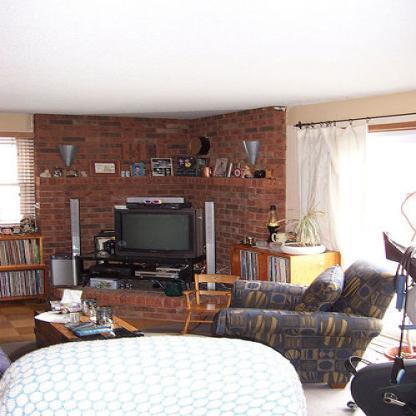chair: (214, 260, 396, 390), (178, 273, 240, 334)
pottedplant: (274, 202, 328, 256)
tvmonitor: (111, 207, 205, 259)
